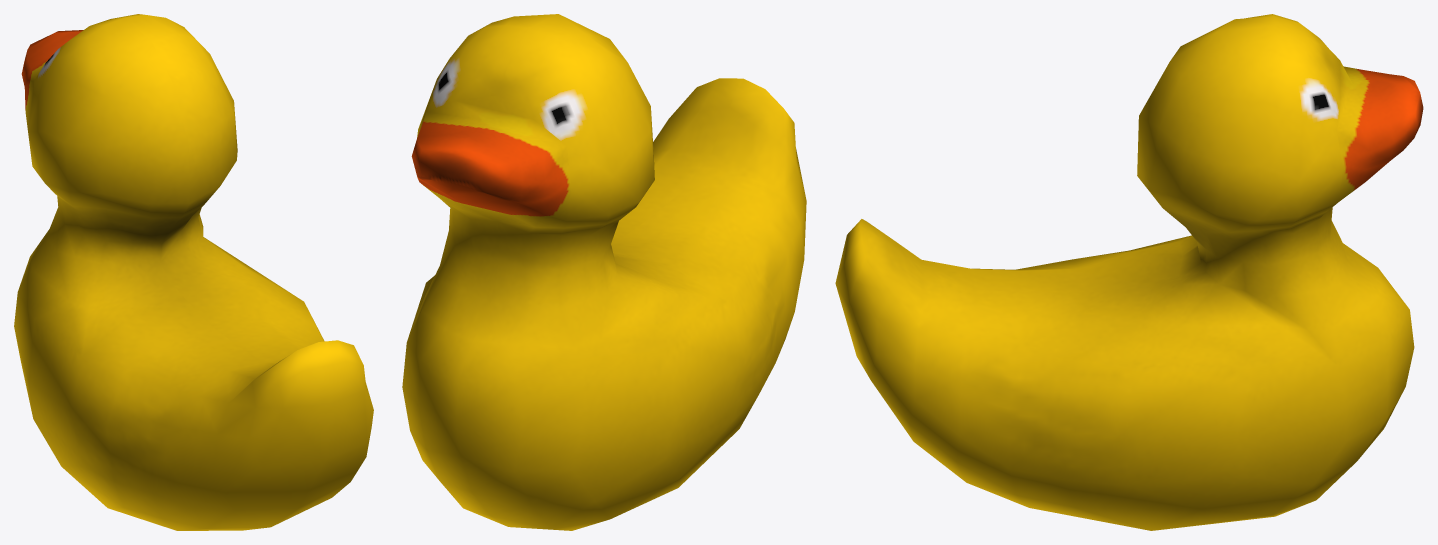
The model's file is duck.fbx.
3 renders of one model, left to right at view 1: azimuth 30°, elevation 25°; view 2: azimuth 150°, elevation 25°; view 3: azimuth 270°, elevation 25°, orthographic. The views are drawn at different scales.
Visible parts, largest first — view 1: Duck; view 2: Duck; view 3: Duck.
Boxes of the visible parts, bbox=[...] form: Duck: bbox=[14, 14, 373, 530]; Duck: bbox=[402, 14, 806, 530]; Duck: bbox=[835, 14, 1423, 530].
Size of the model in its own units: 2.1 by 3.61 by 3.99.
